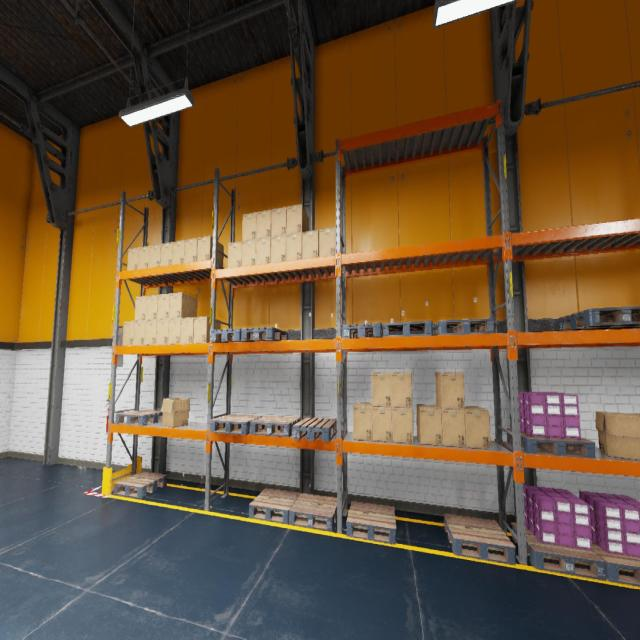box: (595, 411, 640, 460), (437, 406, 466, 448), (435, 372, 465, 410), (416, 404, 443, 446), (464, 406, 490, 449), (161, 398, 190, 427), (197, 235, 223, 267), (392, 407, 413, 443), (193, 316, 221, 343), (353, 402, 372, 441), (391, 372, 412, 407), (169, 292, 197, 318), (372, 407, 392, 442), (372, 372, 392, 407), (286, 204, 309, 234), (319, 227, 336, 257), (302, 230, 319, 258), (286, 232, 302, 261), (271, 207, 286, 236), (256, 210, 271, 239), (242, 212, 256, 241), (271, 235, 286, 262), (241, 239, 256, 266), (180, 317, 194, 344), (256, 237, 270, 264), (228, 241, 242, 268), (168, 318, 181, 344), (157, 293, 170, 319), (156, 319, 169, 344), (144, 320, 157, 345), (145, 295, 158, 320), (185, 238, 198, 262), (172, 240, 185, 264), (133, 320, 145, 345), (122, 321, 134, 346), (160, 242, 173, 265), (134, 296, 146, 320), (149, 244, 161, 267), (127, 247, 139, 270), (138, 246, 150, 268)
pallets: (511, 522, 607, 580), (444, 514, 516, 566), (506, 428, 596, 458), (592, 540, 640, 586), (346, 500, 396, 544), (558, 306, 640, 330), (289, 493, 337, 532), (249, 488, 300, 524), (113, 471, 167, 498), (250, 415, 301, 437), (210, 414, 263, 435), (293, 417, 336, 442), (432, 318, 495, 335), (115, 410, 163, 426), (241, 326, 288, 342), (382, 321, 432, 336), (343, 322, 382, 338), (210, 328, 250, 342)
